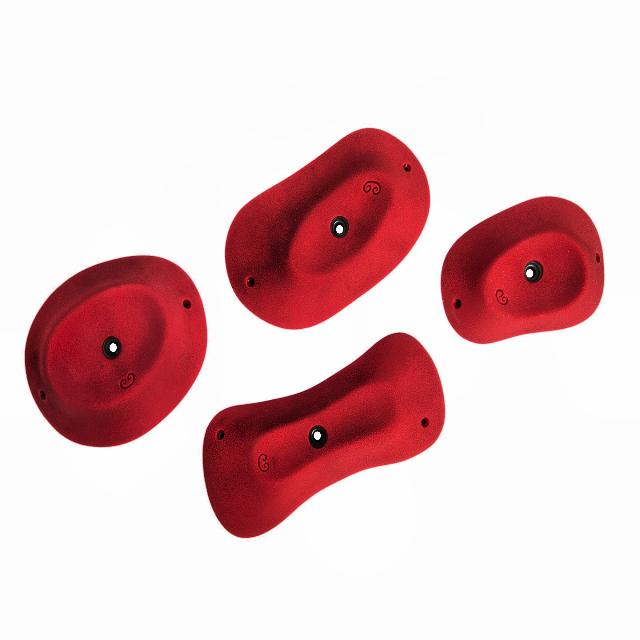Hold: (202, 333, 444, 542), (223, 120, 431, 332), (26, 255, 208, 447), (438, 192, 604, 343)
